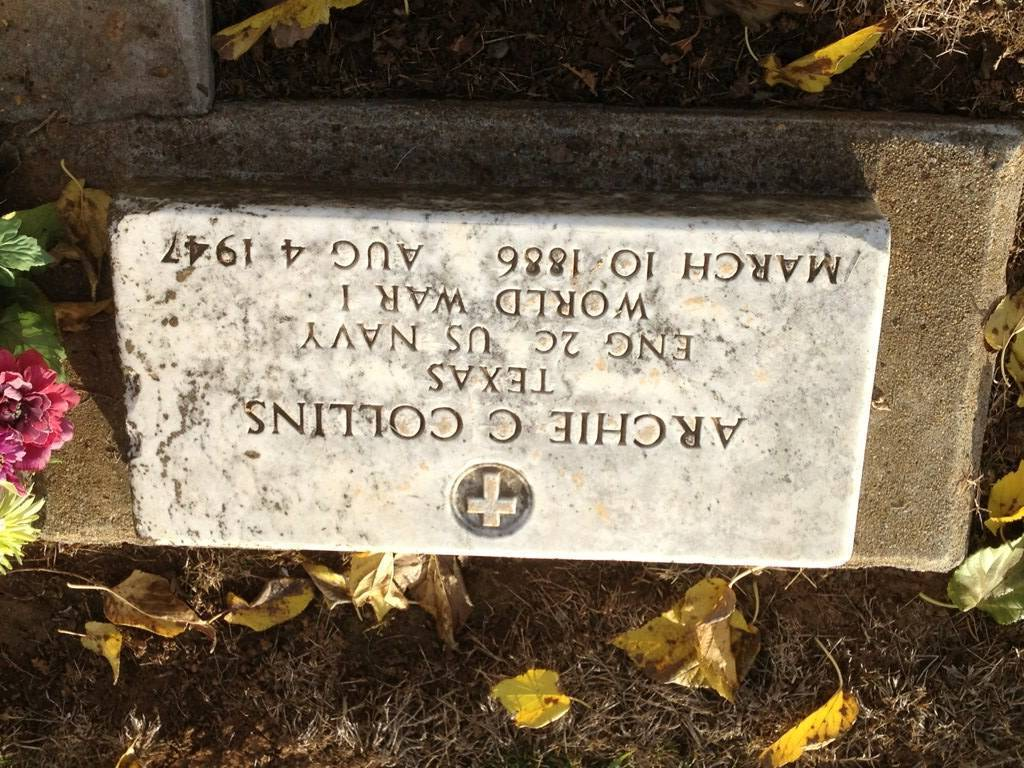flat: (135, 195, 919, 582)
